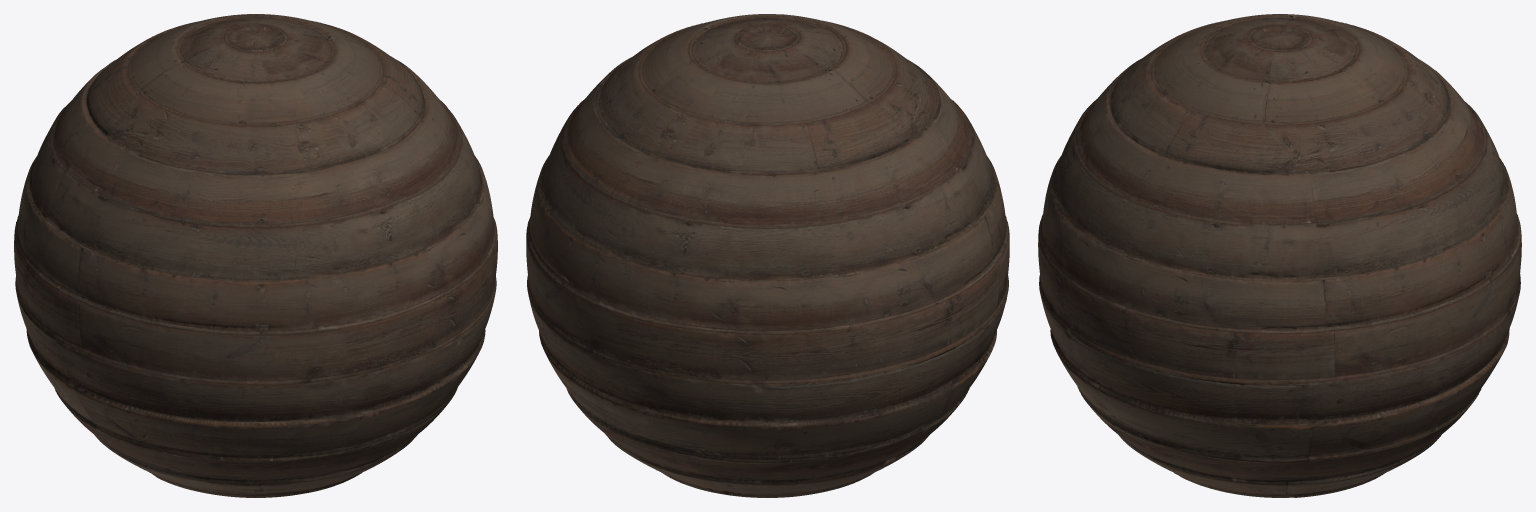
The model's file is weathered_plank_siding_1k.gltf.
3 renders of one model, left to right at view 1: azimuth 30°, elevation 25°; view 2: azimuth 150°, elevation 25°; view 3: azimuth 270°, elevation 25°, orthographic.
Visible parts, largest first — view 1: sphere_gltf; view 2: sphere_gltf; view 3: sphere_gltf.
Boxes of the visible parts, x1,y1,x2,y2 form: sphere_gltf: (14,14,497,497); sphere_gltf: (526,14,1009,497); sphere_gltf: (1038,14,1521,497).
Size of the model in its own units: 1.57 by 1.57 by 1.57.
1 material, 1 textured.
